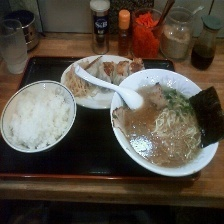rice: (0, 83, 78, 154)
